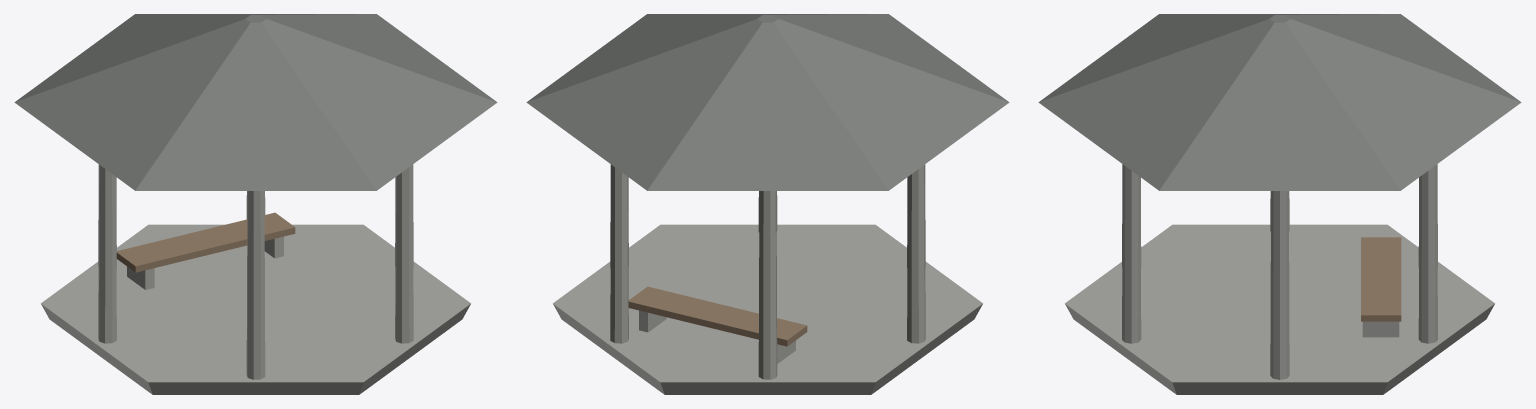
File: park_gazebo.glb
The picture shows the model from 3 angles, left to right: view 1: azimuth 30°, elevation 25°; view 2: azimuth 150°, elevation 25°; view 3: azimuth 270°, elevation 25°; orthographic projection.
Visible parts, largest first — view 1: ConicalRoof, FloorSlab, InnerBench, Column_4, Column_3, Column_5, InnerBenchLegL; view 2: ConicalRoof, FloorSlab, InnerBench, Column_2, Column_1, Column_3; view 3: ConicalRoof, FloorSlab, Column_0, InnerBench, Column_1, Column_5, InnerBenchLegR.
Part boxes in pixels (x1,y1,x2,y2): ConicalRoof: (14, 14, 497, 190); FloorSlab: (41, 224, 470, 394); InnerBench: (116, 212, 295, 272); Column_4: (246, 191, 265, 379); Column_3: (98, 164, 116, 343); Column_5: (395, 164, 413, 343); InnerBenchLegL: (127, 266, 154, 289); ConicalRoof: (526, 14, 1009, 190); FloorSlab: (553, 224, 982, 394); InnerBench: (628, 286, 807, 346); Column_2: (758, 191, 777, 379); Column_1: (610, 164, 628, 343); Column_3: (907, 164, 925, 343); ConicalRoof: (1038, 14, 1521, 190); FloorSlab: (1065, 224, 1494, 394); Column_0: (1270, 191, 1289, 379); InnerBench: (1361, 237, 1401, 321); Column_1: (1418, 164, 1437, 343); Column_5: (1122, 164, 1141, 343); InnerBenchLegR: (1362, 321, 1399, 337).
Size of the model in its own units: 4.76 by 3.77 by 5.5.
